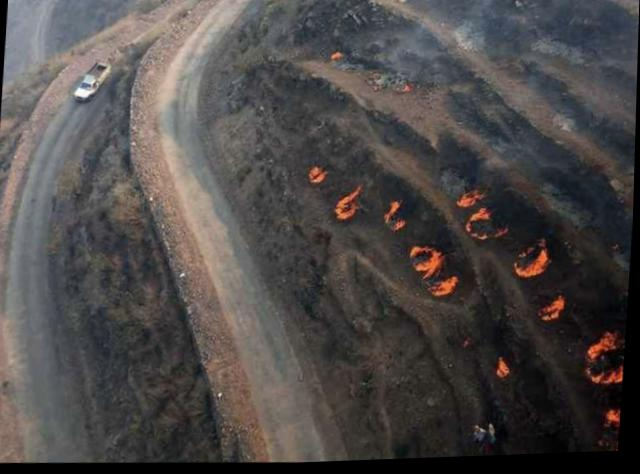fire: (454, 187, 512, 245), (584, 334, 627, 393), (517, 241, 555, 284), (410, 245, 449, 277), (335, 189, 368, 223), (431, 275, 465, 303), (539, 298, 572, 326), (387, 200, 412, 235), (495, 359, 517, 383), (308, 167, 333, 186), (609, 413, 622, 431), (402, 81, 419, 93), (328, 53, 345, 62), (605, 449, 621, 455)
